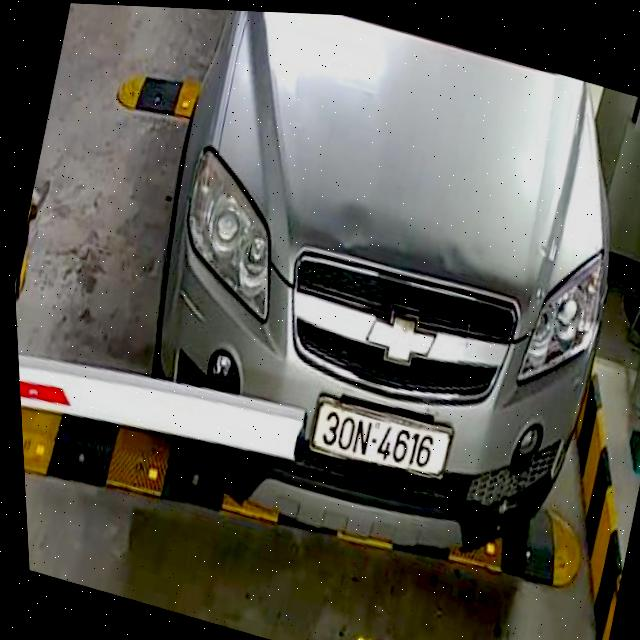car: (94, 4, 640, 604)
plate: (298, 387, 462, 491)
